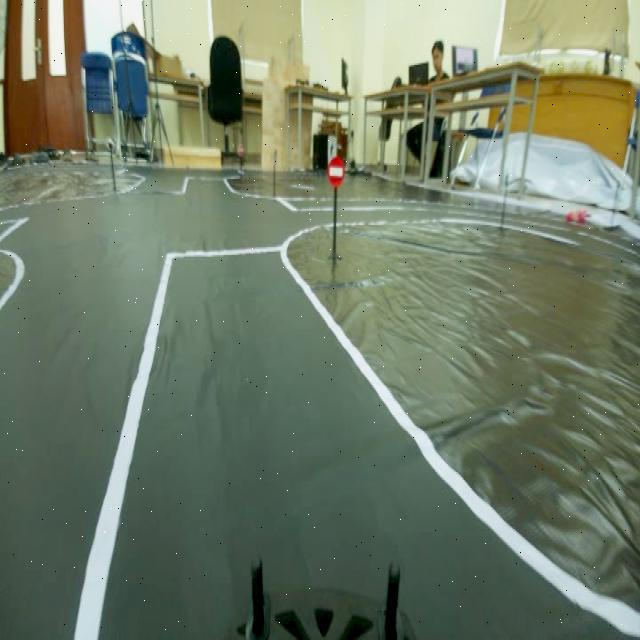no_entry: (323, 150, 352, 196)
